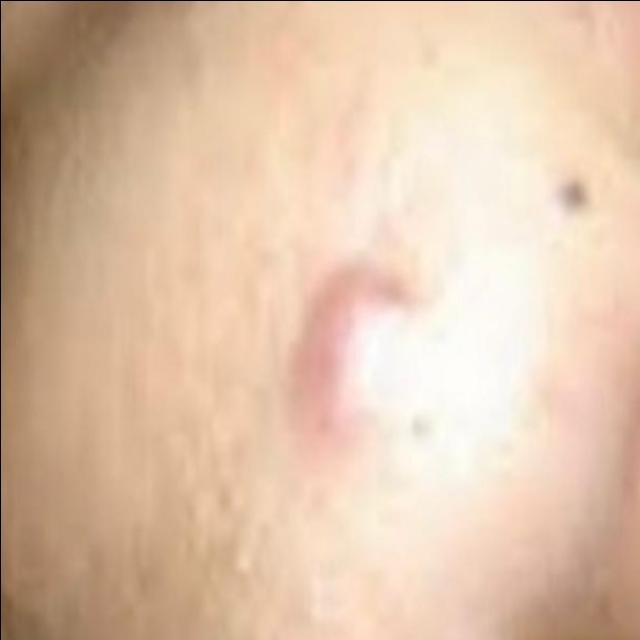nodule: (277, 228, 433, 475)
